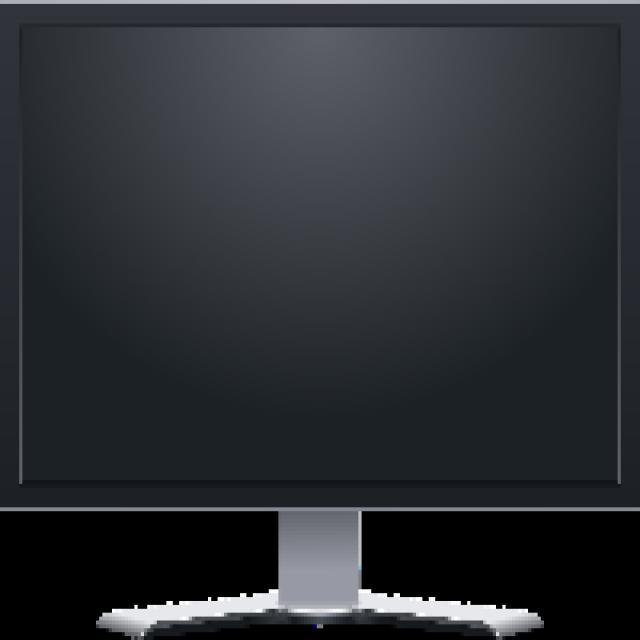monitor: (0, 6, 640, 640)
